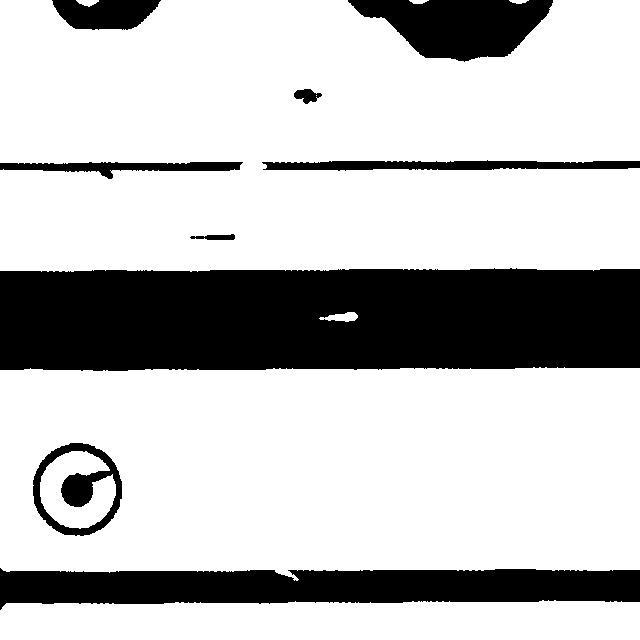copper: (180, 224, 244, 249), (284, 79, 331, 113)
mousebite: (265, 558, 308, 590)
open: (230, 148, 276, 180)
pin-hole: (309, 302, 367, 331)
short: (76, 461, 121, 491)
spur: (88, 159, 122, 188)
